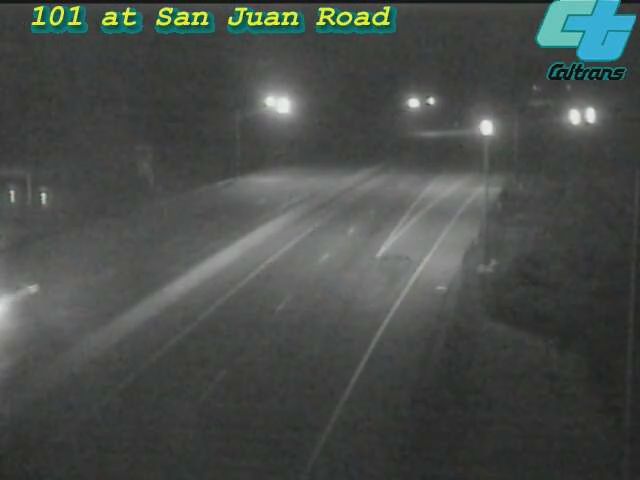vehicle: (1, 265, 51, 345), (465, 102, 515, 152), (546, 92, 596, 142), (565, 91, 615, 141)
